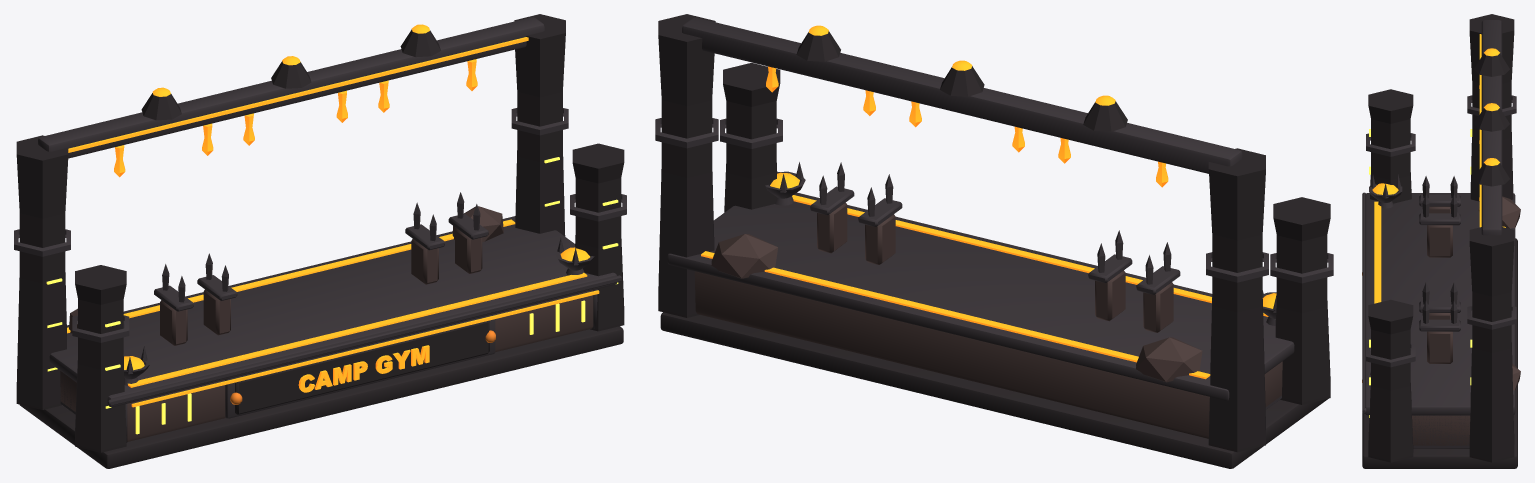
The model's file is st_11_magma.glb.
3 renders of one model, left to right at view 1: azimuth 30°, elevation 25°; view 2: azimuth 150°, elevation 25°; view 3: azimuth 270°, elevation 25°, orthographic. The views are drawn at different scales.
Visible parts, largest first — view 1: st_11_magma; view 2: st_11_magma; view 3: st_11_magma.
Boxes of the visible parts, box(x1,y1,x2,y2) form: st_11_magma: box(14, 14, 626, 468); st_11_magma: box(655, 14, 1333, 468); st_11_magma: box(1362, 14, 1520, 468).
Bounding box in the file's own units: 10.7 × 5.44 × 3.06.
